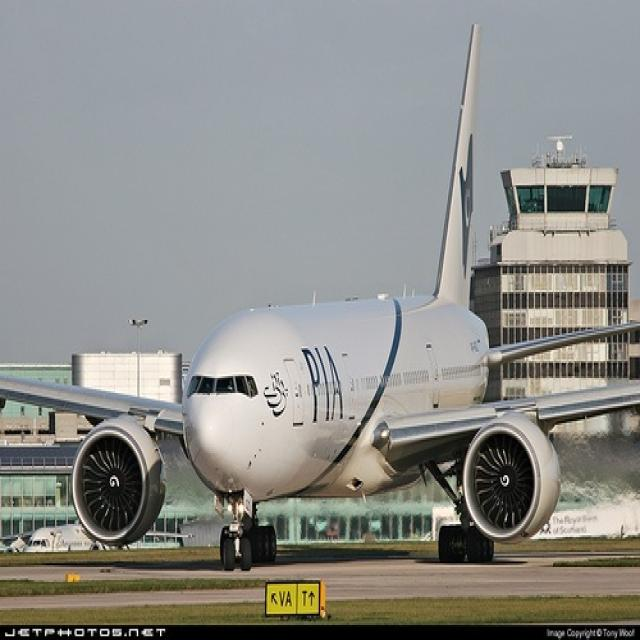aeroplane: (2, 25, 640, 572)
